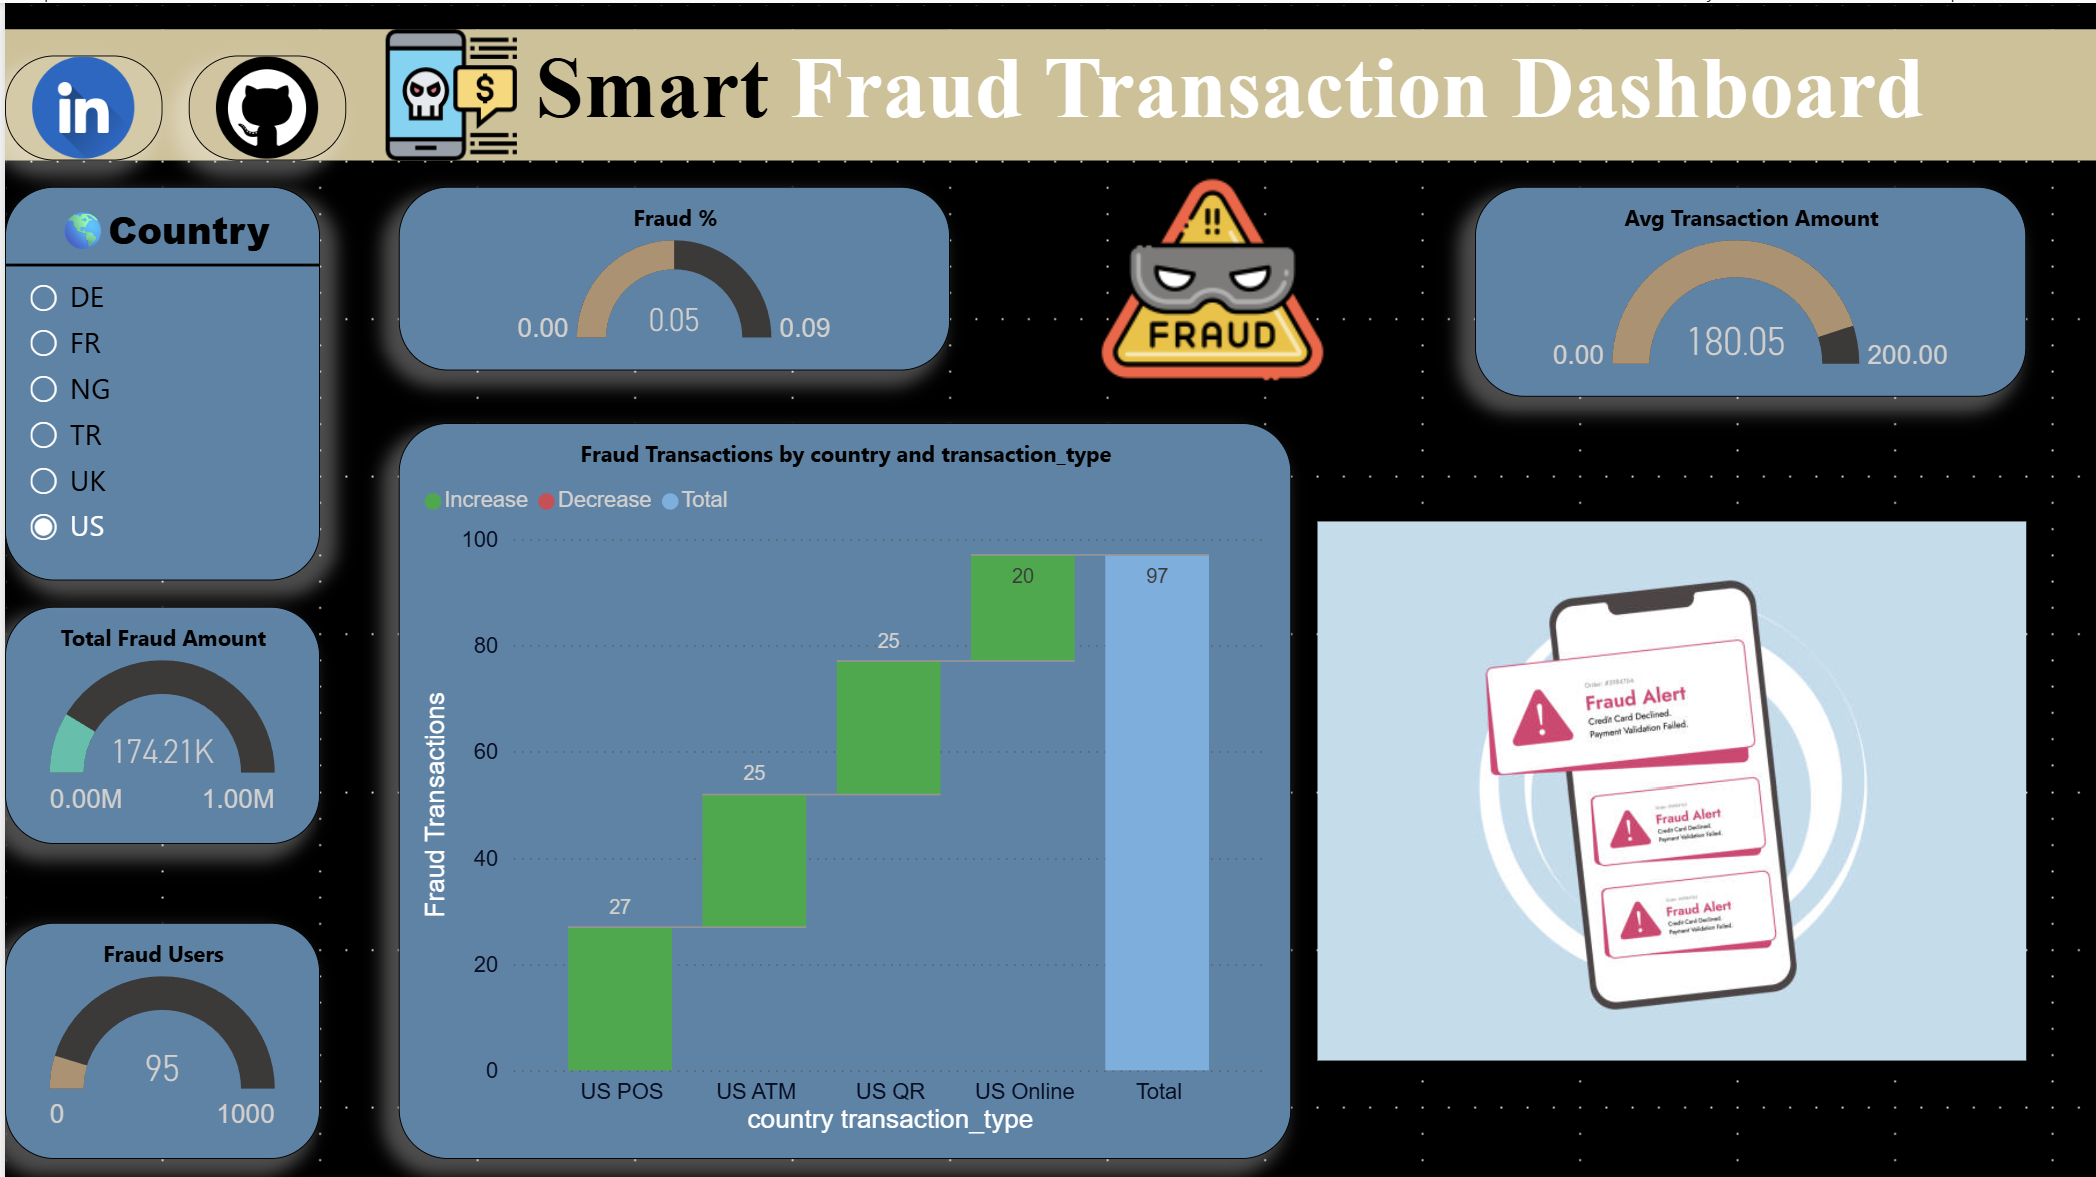

The page's visual inventory and layout, read from the dashboard file:
{"tool":"powerbi","page":{"name":"Home","canvas":[1280,720],"ordinal":0},"visuals":[{"type":"textbox","box":[0,16,1280,80],"z":0},{"type":"image","box":[224,16,96,80],"z":1000},{"type":"image","box":[0,32,96,64],"z":2000},{"type":"image","box":[112,32,96,64],"z":3000},{"type":"waterfallChart","fields":{"Category":["synthetic_fraud_dataset.country","synthetic_fraud_dataset.transaction_type"],"Y":["synthetic_fraud_dataset.Fraud Transactions"]},"box":[240,256,544,448],"z":4000},{"type":"gauge","fields":{"Y":["synthetic_fraud_dataset.Fraud %"]},"box":[240,112,336,112],"z":5000},{"type":"gauge","fields":{"Y":["synthetic_fraud_dataset.Avg Transaction Amount"]},"box":[896,112,336,128],"z":6000},{"type":"gauge","fields":{"Y":["synthetic_fraud_dataset.Total Fraud Amount"]},"box":[0,368,192,144],"z":7000},{"type":"gauge","fields":{"Y":["synthetic_fraud_dataset.Fraud Users"]},"box":[0,560,192,144],"z":8000},{"type":"image","box":[624,96,224,144],"z":9000},{"type":"listSlicer","title":"🌎Country","fields":{"Values":["synthetic_fraud_dataset.country"]},"box":[0,112,192,240],"z":10000},{"type":"image","box":[800,272,432,416],"z":11000}]}

Visuals, with their boxes in screenshot pixels (x1, y1, x2, y2), scaled from the page's 1280x720 canvas onto the 2096x1177 screenshot:
textbox: <region>0, 26, 2095, 157</region>
image: <region>367, 26, 524, 157</region>
image: <region>0, 52, 157, 157</region>
image: <region>183, 52, 341, 157</region>
waterfallChart - synthetic_fraud_dataset.country x synthetic_fraud_dataset.transaction_type: <region>393, 418, 1284, 1151</region>
gauge - synthetic_fraud_dataset.Fraud %: <region>393, 183, 943, 366</region>
gauge - synthetic_fraud_dataset.Avg Transaction Amount: <region>1467, 183, 2017, 392</region>
gauge - synthetic_fraud_dataset.Total Fraud Amount: <region>0, 602, 314, 837</region>
gauge - synthetic_fraud_dataset.Fraud Users: <region>0, 915, 314, 1151</region>
image: <region>1022, 157, 1389, 392</region>
"🌎Country" listSlicer: <region>0, 183, 314, 575</region>
image: <region>1310, 445, 2017, 1125</region>
